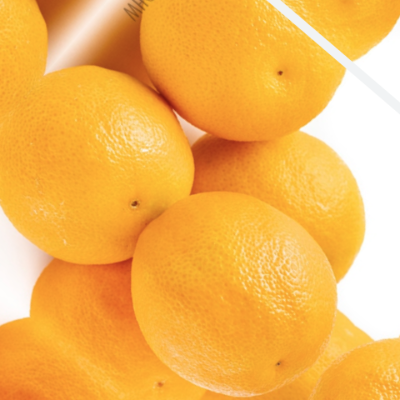orange: (81, 139, 384, 400), (0, 7, 252, 315), (92, 0, 383, 209)
